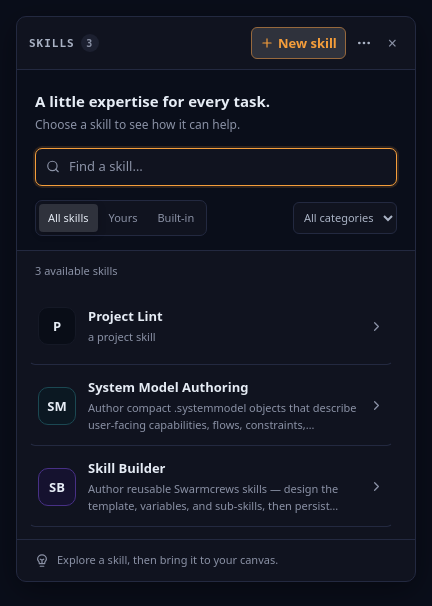
Test: lets users recover from empty filters and browse only their skills
Click the button "Yours" at x=123, y=218, box [100,204,146,232]
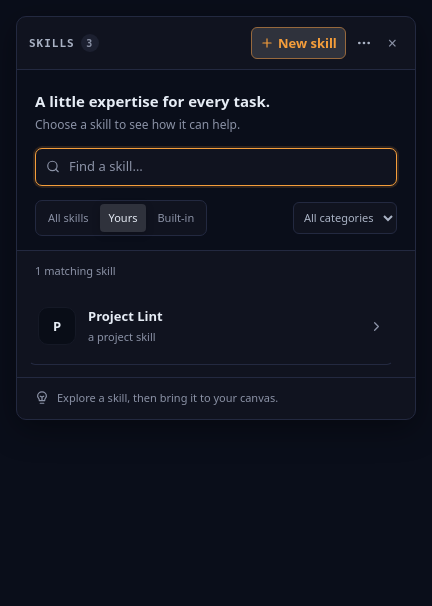
Check: the button with aria-label "View Project Lint" is shown, box [29,287,393,365]
Select "Design" in the dropdown named "Skill category" at x=345, y=218, box [293,202,397,234]
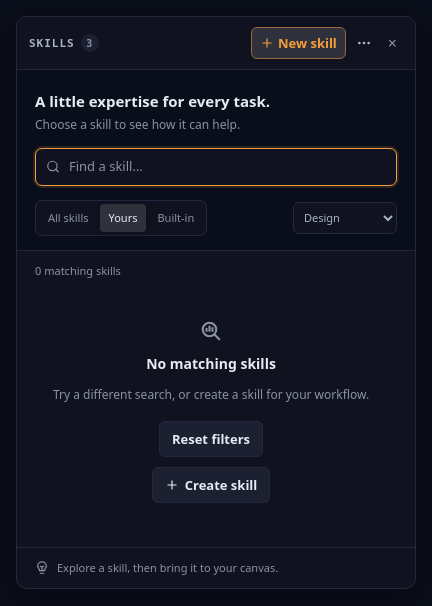
Check: the text "No matching skills" is shown, box [146,353,276,375]
Click the button "Reset filters" at x=211, y=439, box [159,421,263,457]
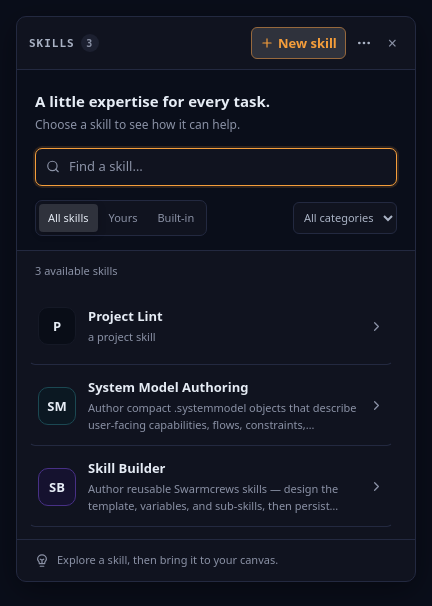
Check: the button with aria-label "View Skill Builder" is shown, box [29,446,393,527]
